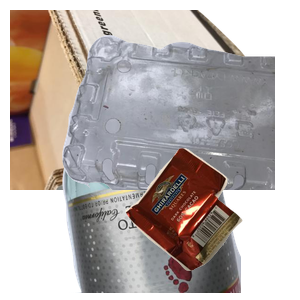cardboard: (10, 10, 250, 190)
glass: (60, 120, 300, 300)
plastic: (60, 32, 300, 212)
trash: (123, 145, 300, 300)
